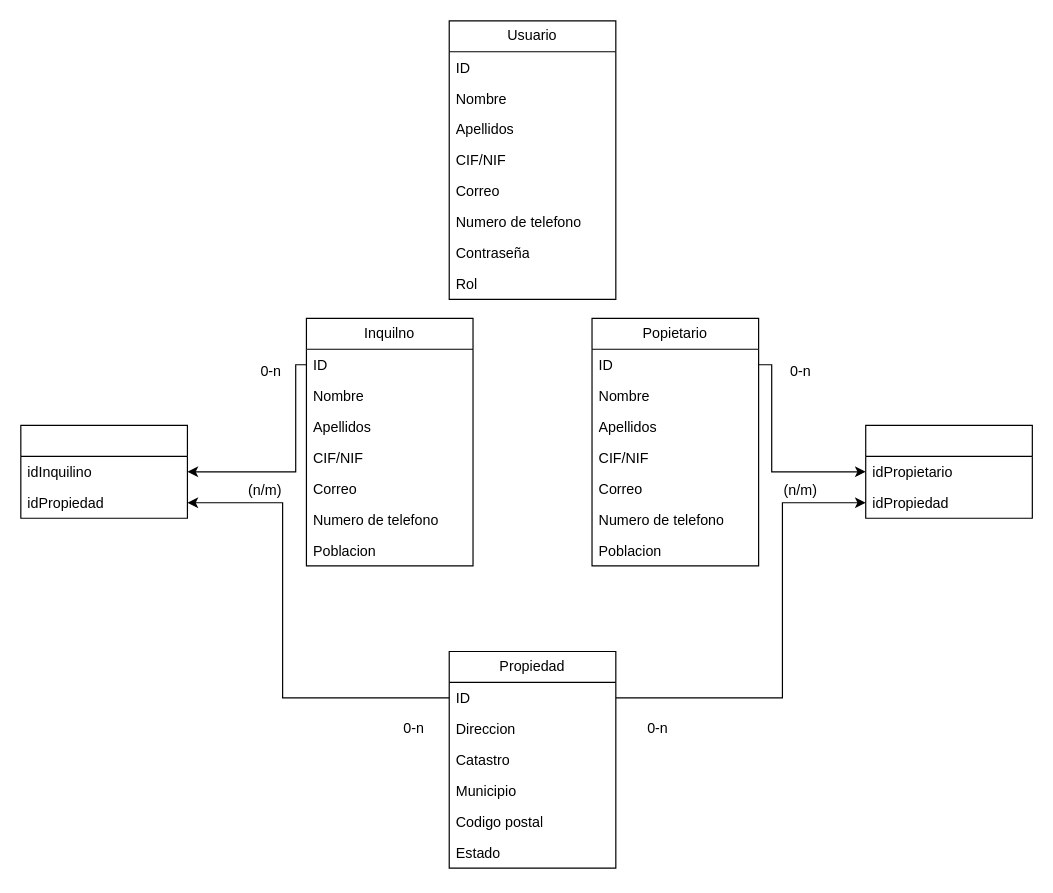
The diagram is 1053 pixels wide and 893 high, and some of its shapes have lost their labels. The box of each missing label's shape, as (x1, y1, x2, y2) in pixels:
propiedadInquilino: (20, 424, 187, 518)
propiedadPropietario: (865, 424, 1032, 518)
